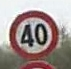limite 40: (7, 9, 60, 58)
